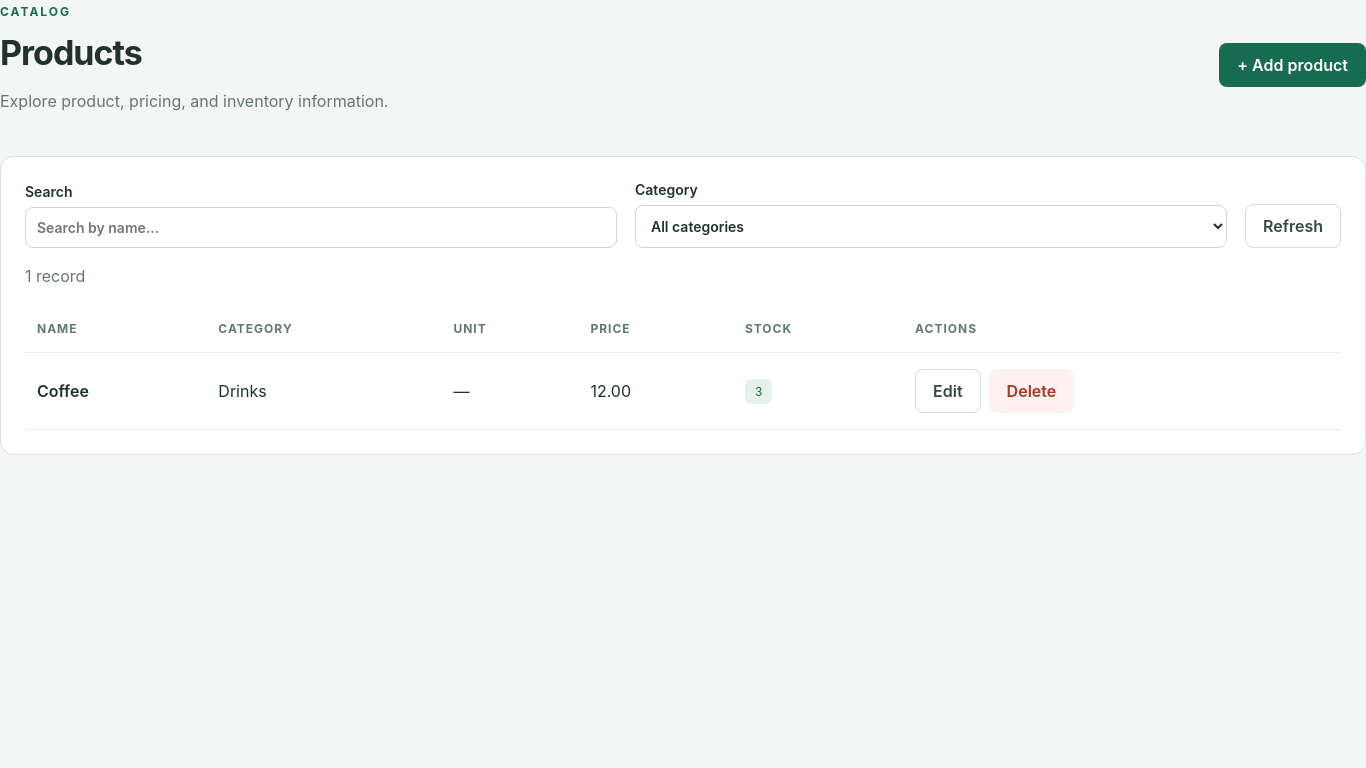
Scenario: product editor opens over its catalog and Escape closes it
Check: the text "Coffee" is shown, box [25, 353, 206, 430]
Click the button "+ Add product". click: (1293, 65)
box: [1219, 43, 1365, 87]
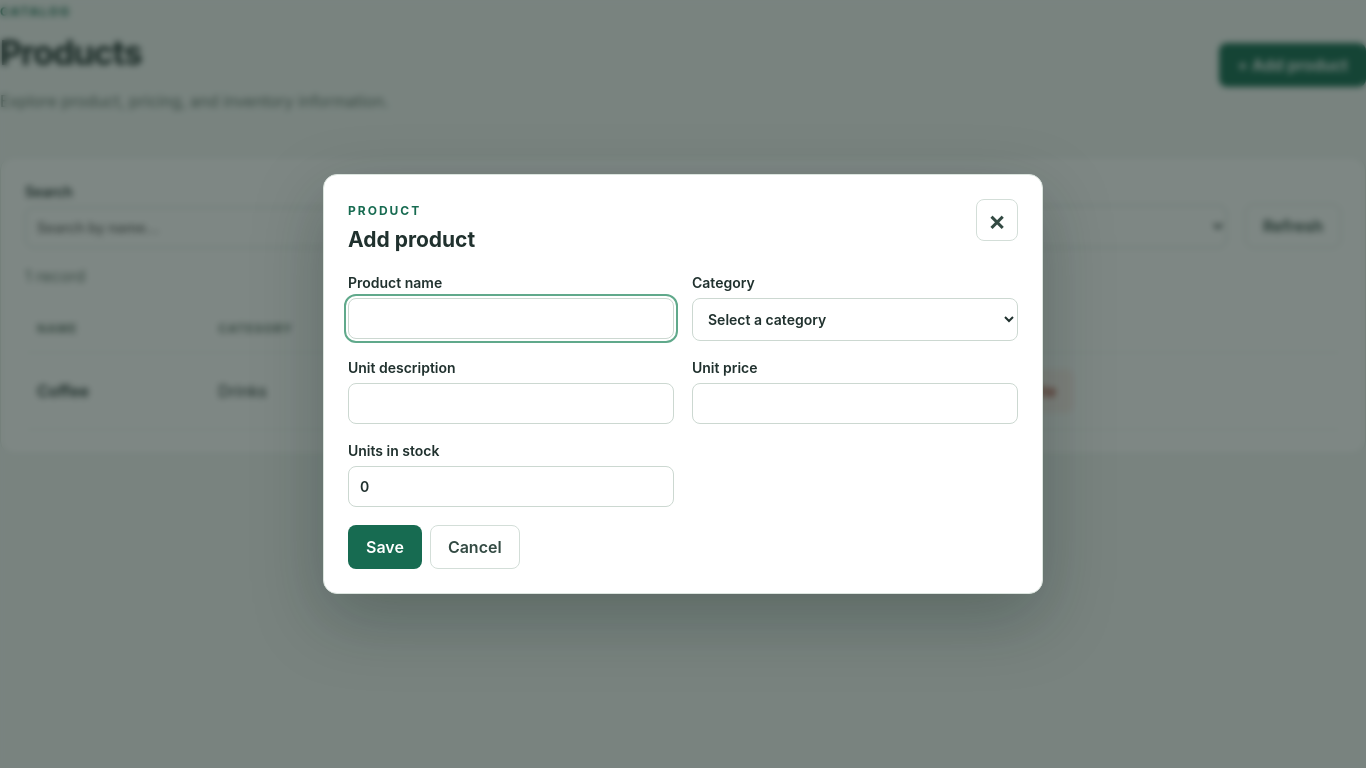
Check: the text "Coffee" is shown, box [25, 353, 206, 430]
Check: the dialog "Add product" is shown, box [323, 174, 1043, 594]
Press Escape
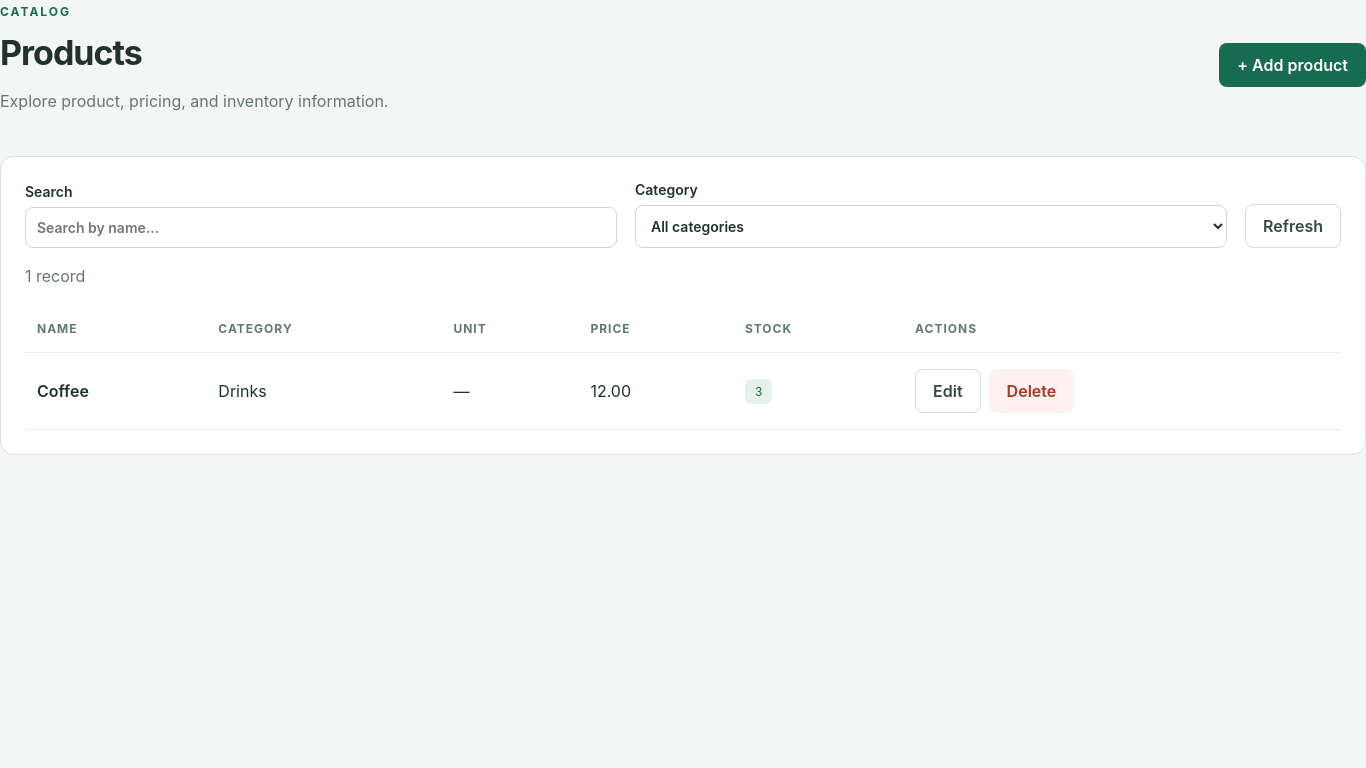
Check: the dialog is gone
